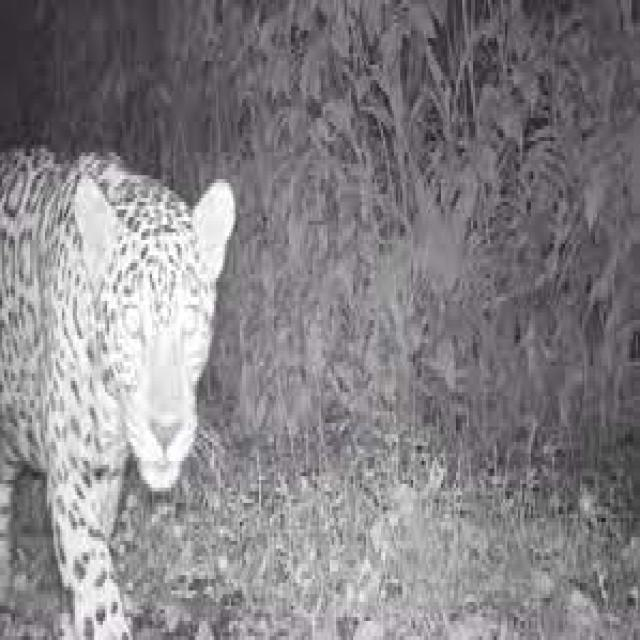Jaguar: (2, 133, 236, 640)
